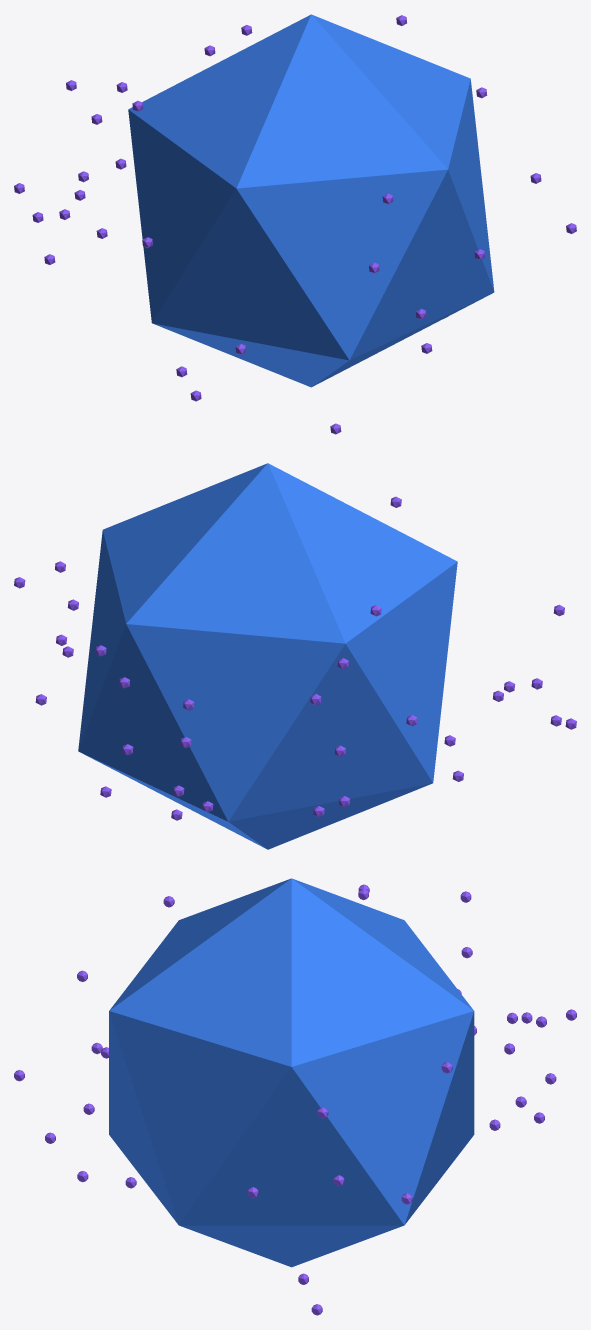
Rendered from star.glb.
3 views of the same model, one above another, from view 1: azimuth 30°, elevation 25°; view 2: azimuth 150°, elevation 25°; view 3: azimuth 270°, elevation 25° (orthographic). The views are drawn at different scales.
Parts seen in each view (by area): view 1: core; view 2: core; view 3: core.
Part boxes in pixels (x1,y1,x2,y2): core: (128, 14, 494, 387); core: (78, 463, 457, 849); core: (109, 878, 474, 1267).
Bounding box in the file's own units: 2.71 × 2 × 2.62.
